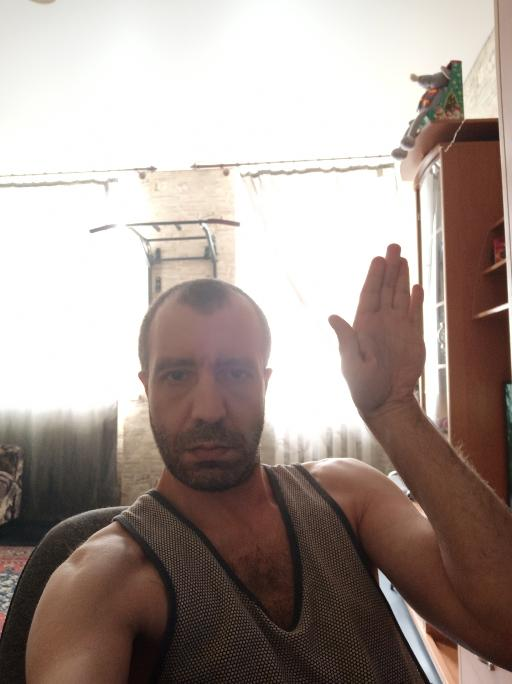stop: (326, 237, 437, 415)
